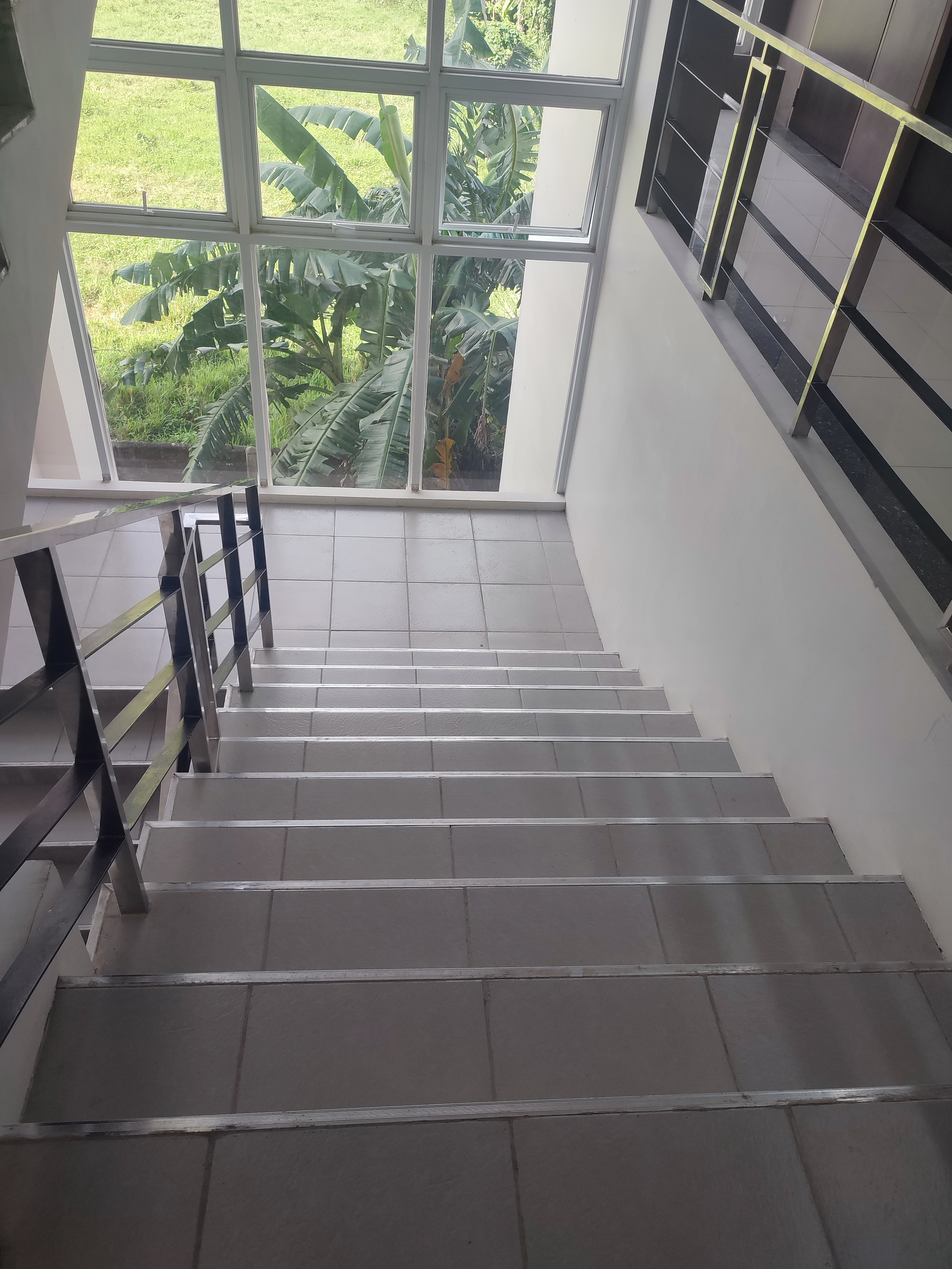Staircase: (0, 493, 952, 1269)
